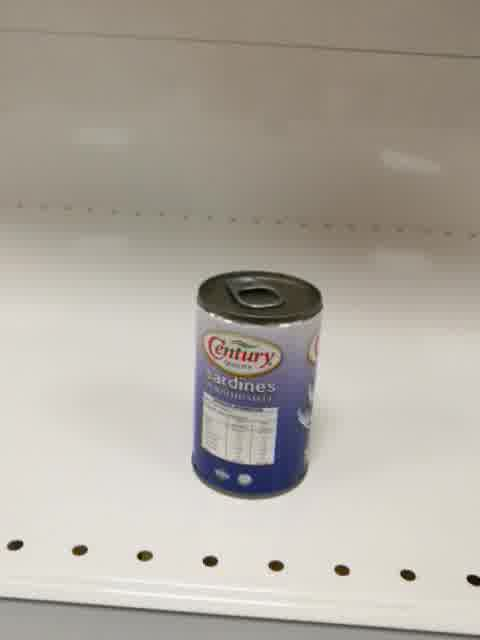sardine: (190, 269, 326, 500)
